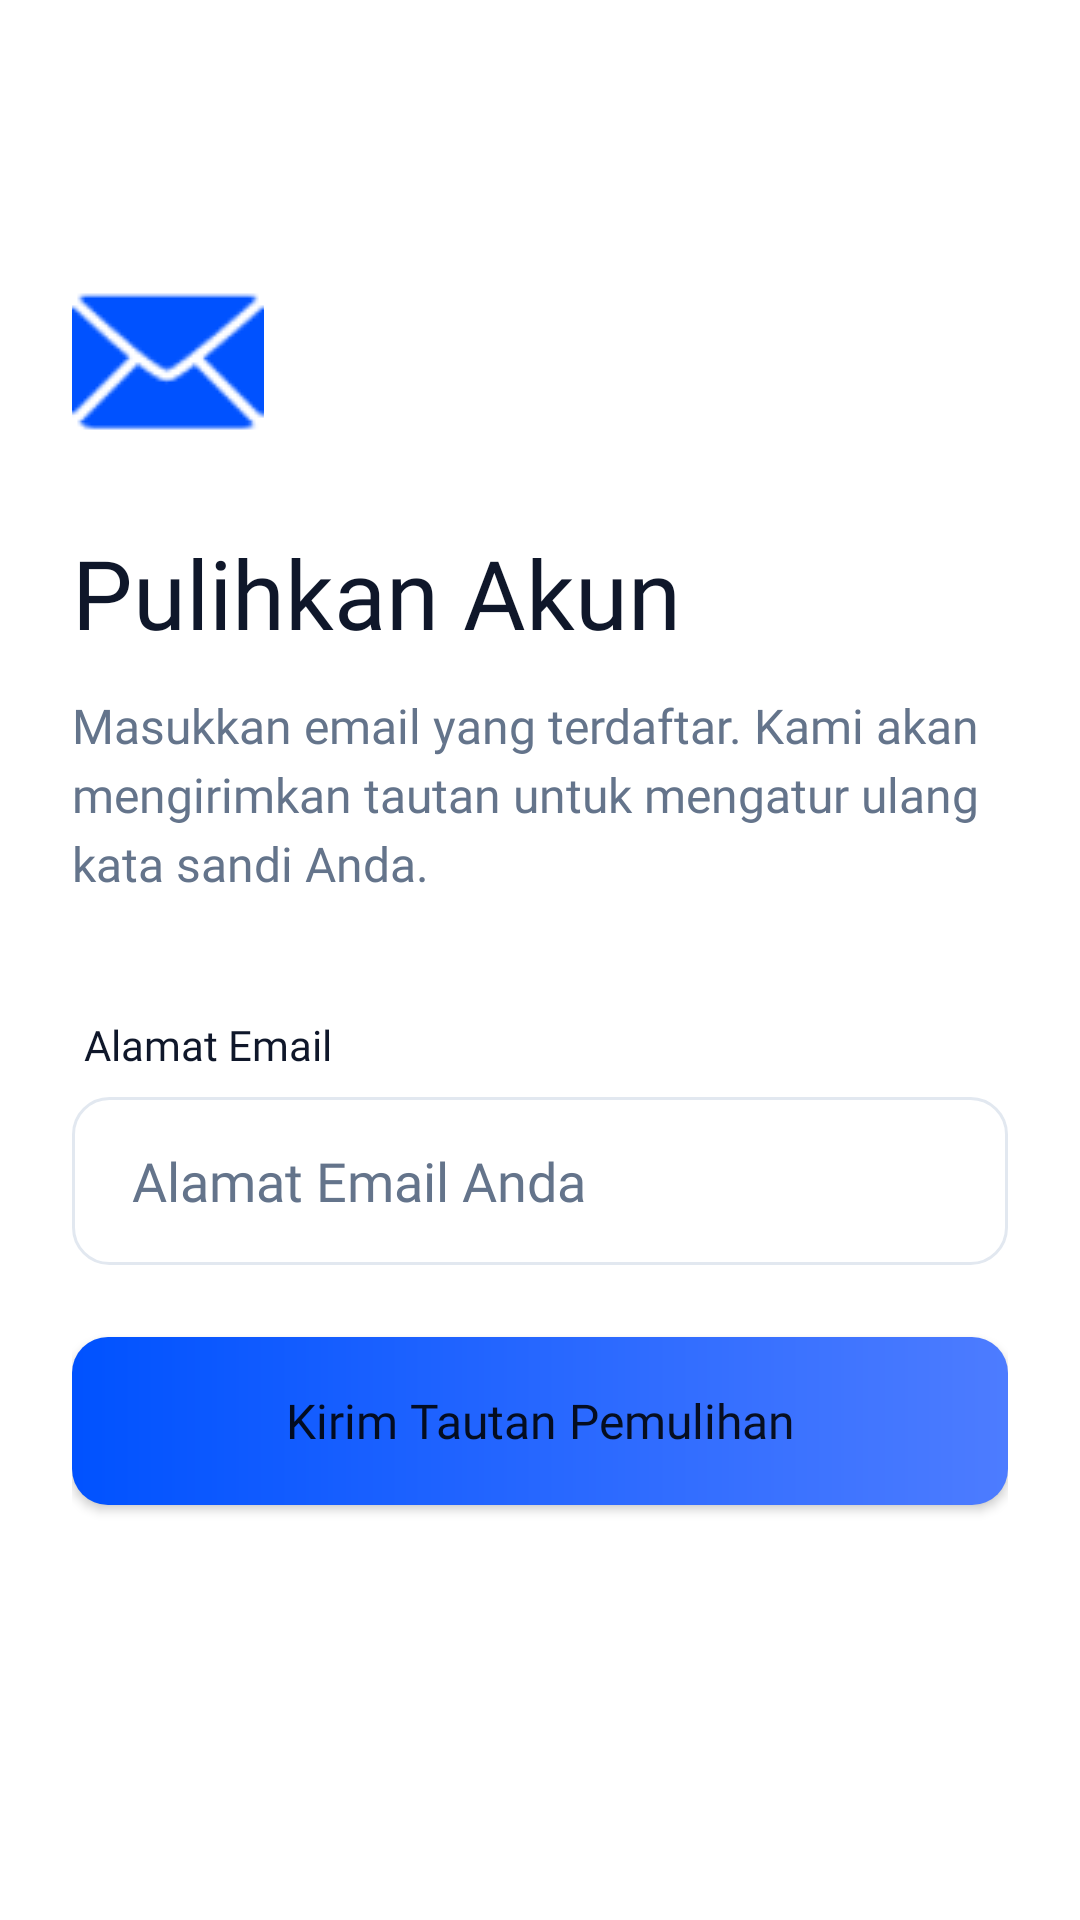

Where to tap for icons on this 1080 x 1920 app screen, as [x,y]:
email: [168,361]
